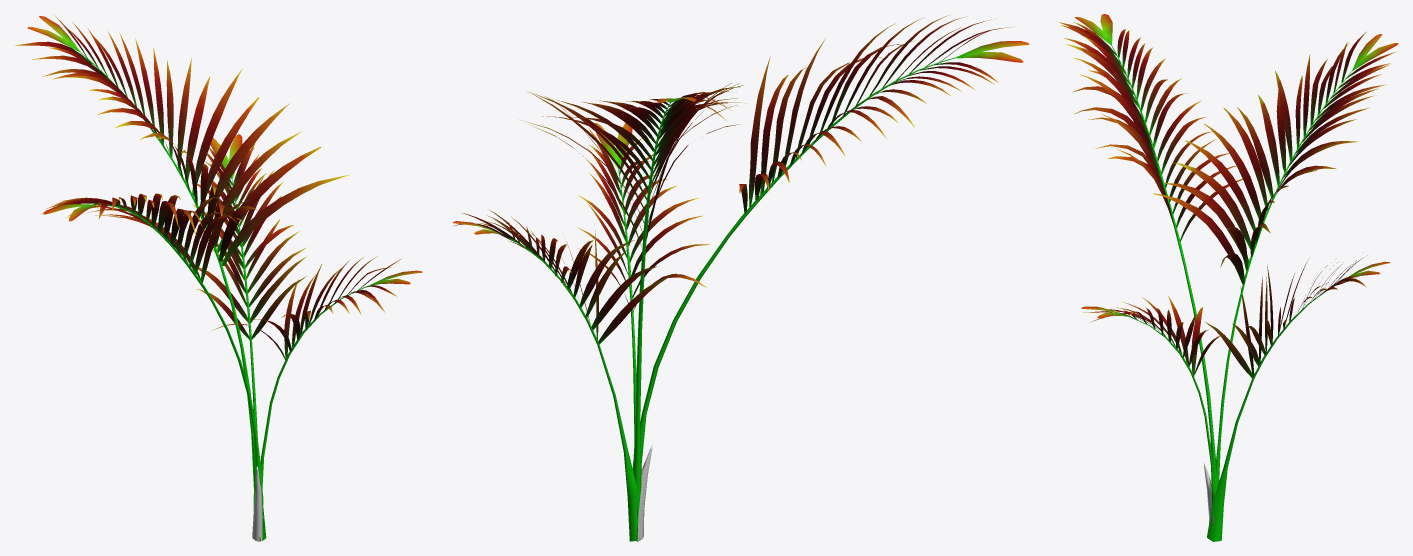
Rendered from Alexandra Palm_LOD3_Var3_ukgkcilia.fbx.
The picture shows the model from 3 angles, left to right: view 1: azimuth 30°, elevation 25°; view 2: azimuth 150°, elevation 25°; view 3: azimuth 270°, elevation 25°; orthographic projection. The views are drawn at different scales.
Parts seen in each view (by area): view 1: _0jxa_Var3_LOD3; view 2: _0jxa_Var3_LOD3; view 3: _0jxa_Var3_LOD3.
Boxes of the visible parts, box(x1,y1,x2,y2) form: _0jxa_Var3_LOD3: box(15, 14, 422, 541); _0jxa_Var3_LOD3: box(453, 15, 1029, 541); _0jxa_Var3_LOD3: box(1059, 14, 1398, 541).
Bounding box in the file's own units: 57.05 × 69.68 × 48.59.
